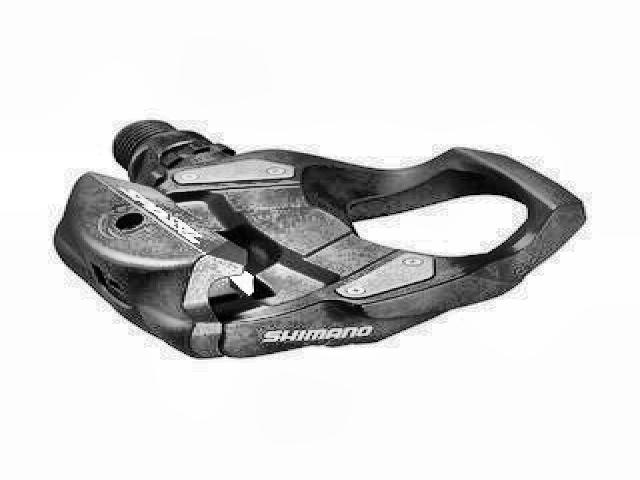pedal: (43, 115, 594, 364)
